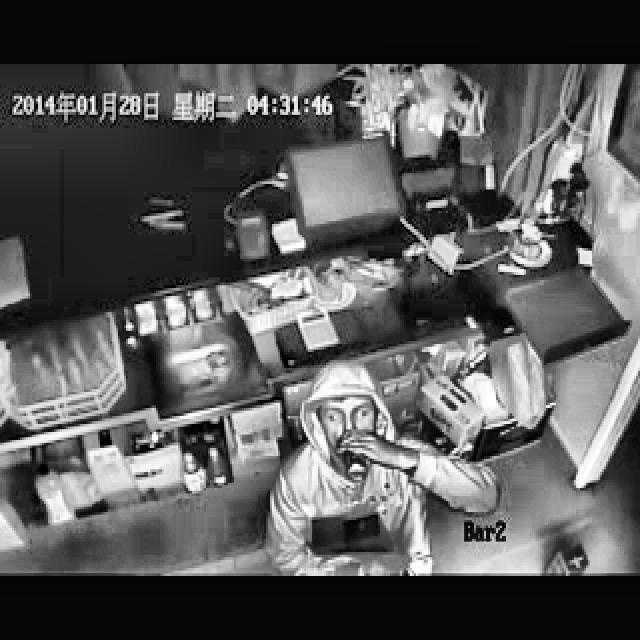burglary: (253, 341, 505, 574)
